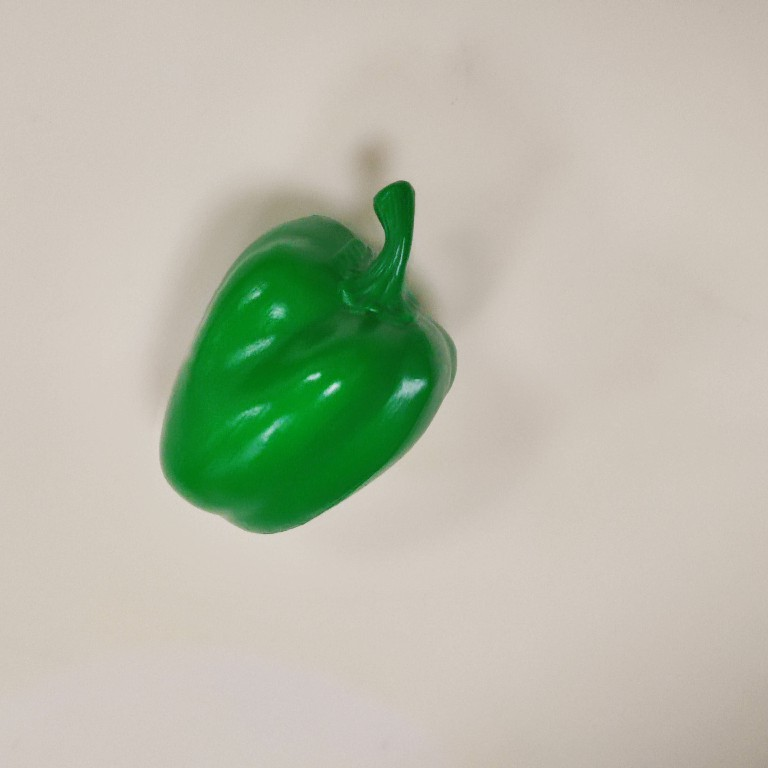fruit_pepper: (154, 177, 464, 546)
